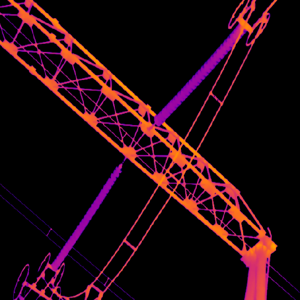insulator: (153, 22, 247, 126), (51, 162, 123, 270)
